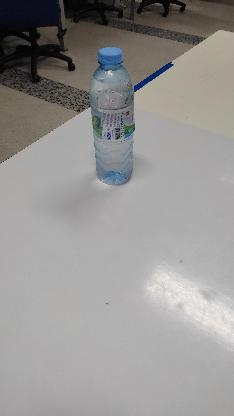Plastic Bottle: (88, 42, 138, 186)
